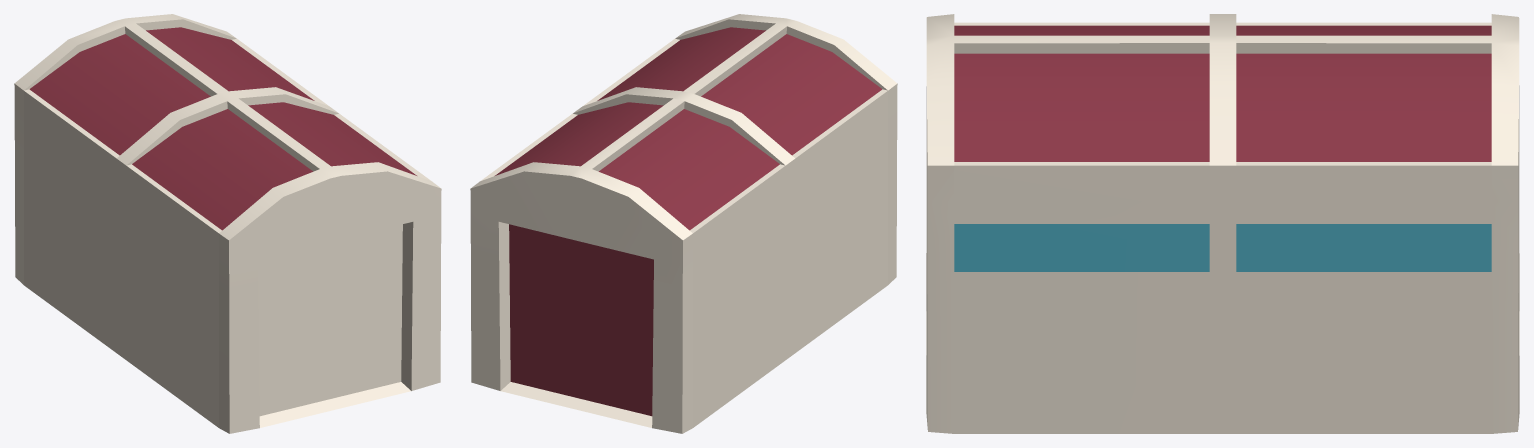
Rendered from StorageSmall.fbx.
3 renders of one model, left to right at view 1: azimuth 30°, elevation 25°; view 2: azimuth 150°, elevation 25°; view 3: azimuth 270°, elevation 25°, orthographic. The views are drawn at different scales.
Visible parts, largest first — view 1: StorageSmall; view 2: StorageSmall; view 3: StorageSmall.
Part boxes in pixels (x1,y1,x2,y2): StorageSmall: [14, 14, 441, 433]; StorageSmall: [470, 14, 897, 433]; StorageSmall: [926, 14, 1519, 433].
Bounding box in the file's own units: 54.09 × 57.45 × 94.67.
